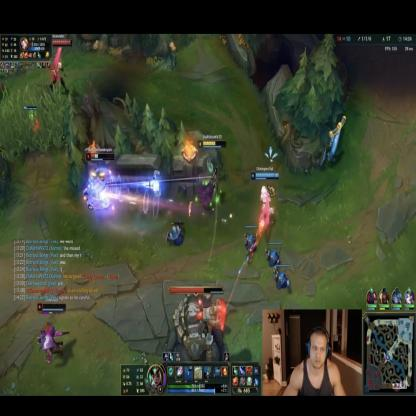streamer: (280, 323, 347, 397)
